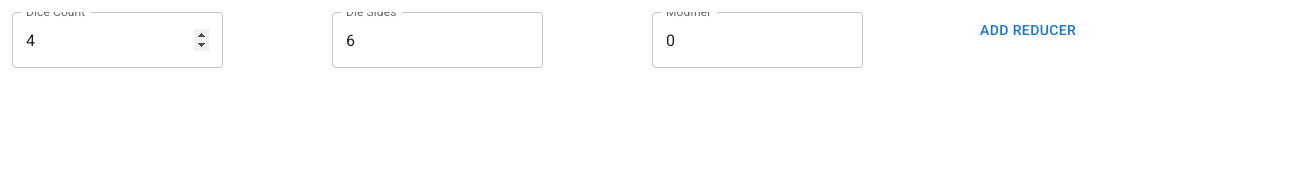
Scenario: Reducer › Can be removed
What coordinates should you click on to do the following:
click the button with test id "diceSetComponent-addReducer"
I would click on:
 (1028, 30)
Its box is x1=972 y1=12 x2=1084 y2=48.
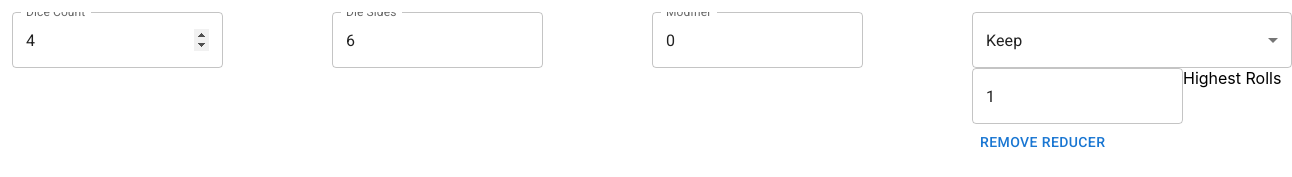
Now the element with test id "diceSetComponent-reducerType" is shown, box x1=972 y1=12 x2=1291 y2=68
What coordinates should you click on to do the following:
click the button with test id "diceSetComponent-removeReducer"
I would click on:
 (1043, 142)
Its box is x1=972 y1=124 x2=1113 y2=160.
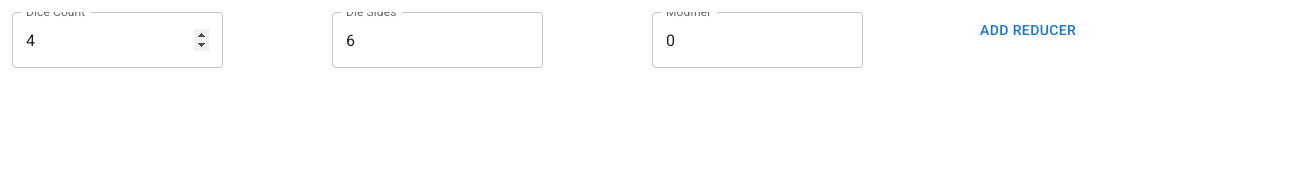
Now the element with test id "diceSetComponent-reducerType" is gone
